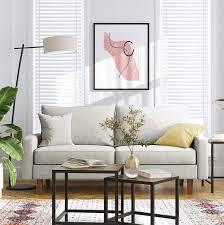light: (0, 33, 80, 191)
sofa: (16, 100, 211, 192)
table: (50, 162, 125, 225), (102, 174, 182, 225), (200, 129, 224, 191)
